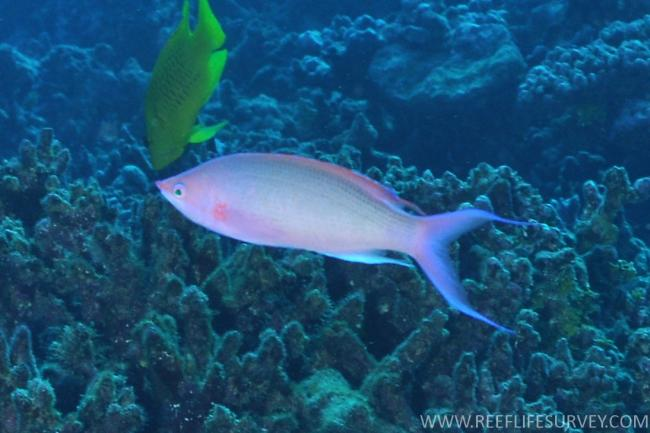fish: (155, 152, 533, 336), (143, 2, 228, 170)
